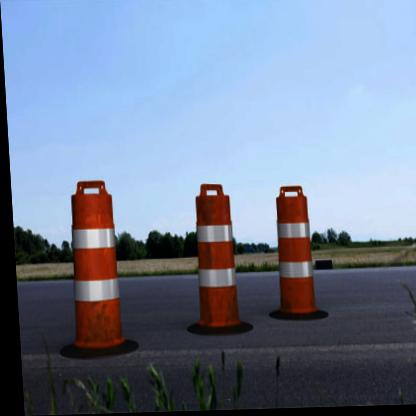obstacle: (60, 178, 123, 353), (185, 184, 235, 329), (265, 182, 315, 317)
